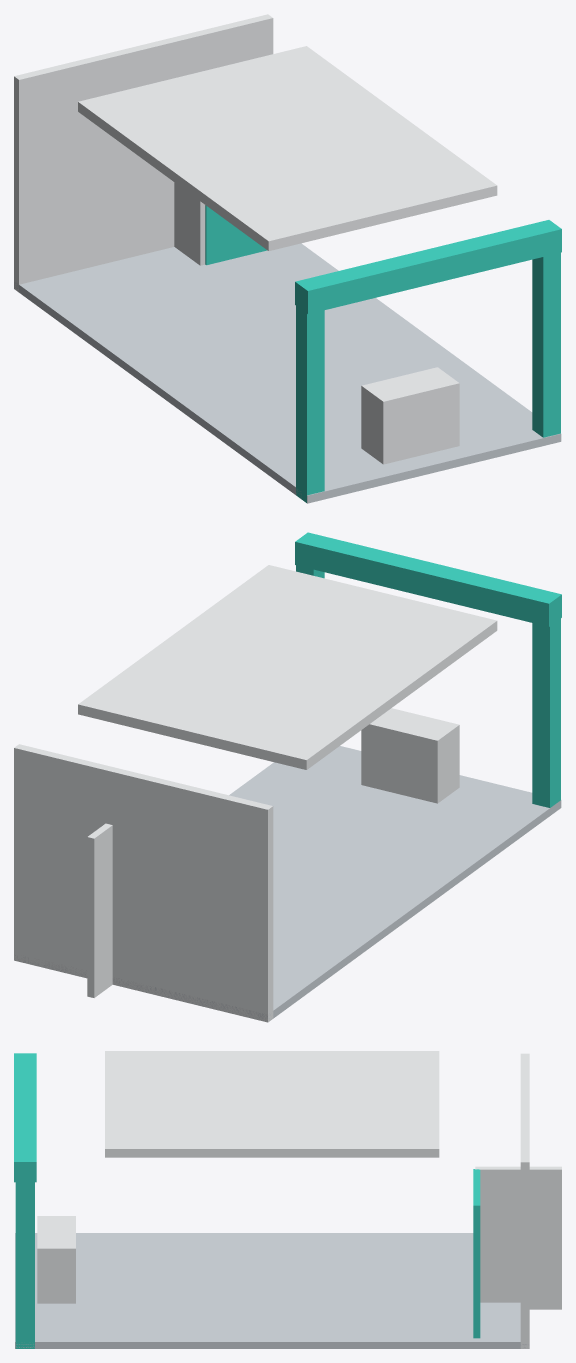
3 renders of one model, top to bottom at view 1: azimuth 30°, elevation 25°; view 2: azimuth 150°, elevation 25°; view 3: azimuth 270°, elevation 25°, orthographic. The views are drawn at different scales.
Parts seen in each view (by area): view 1: Exhibition Booth Concept; view 2: Exhibition Booth Concept; view 3: Exhibition Booth Concept.
Part boxes in pixels (box(x1,y1,x2,y2)): Exhibition Booth Concept: box(14, 14, 561, 503); Exhibition Booth Concept: box(14, 532, 561, 1022); Exhibition Booth Concept: box(14, 1051, 561, 1348).
Size of the model in its own units: 4 by 3.34 by 8.52.
